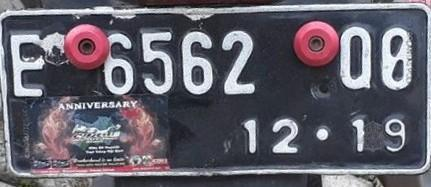2: (214, 28, 270, 100)
5: (136, 28, 180, 98)
6: (178, 29, 218, 98), (102, 30, 138, 98)
E: (7, 30, 50, 101)
O: (372, 26, 420, 95)
Q: (334, 24, 376, 95)
